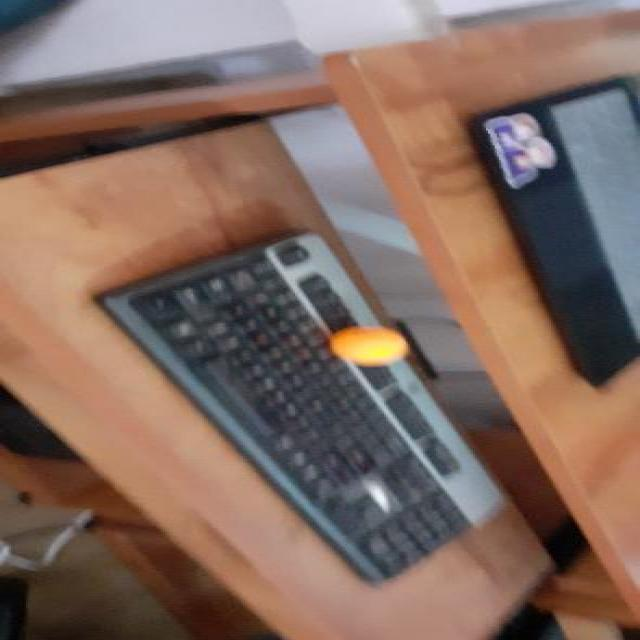oball: (326, 324, 406, 368)
